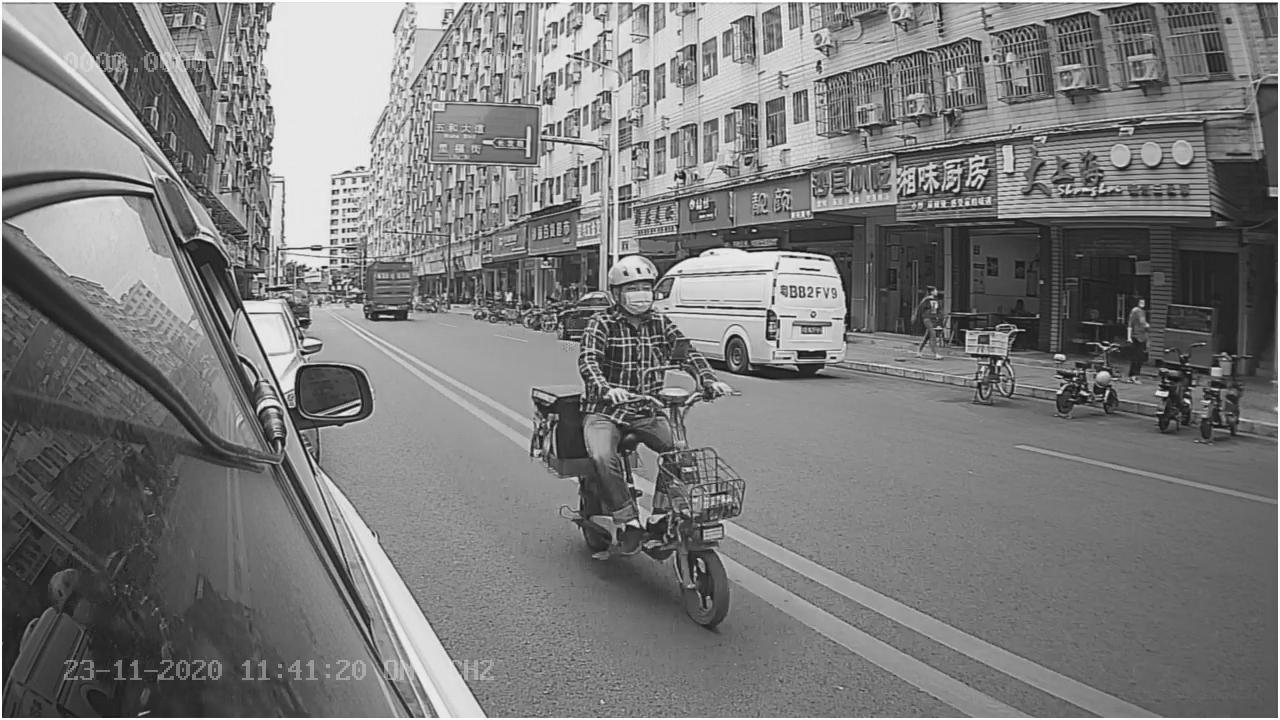person: (565, 251, 720, 383)
